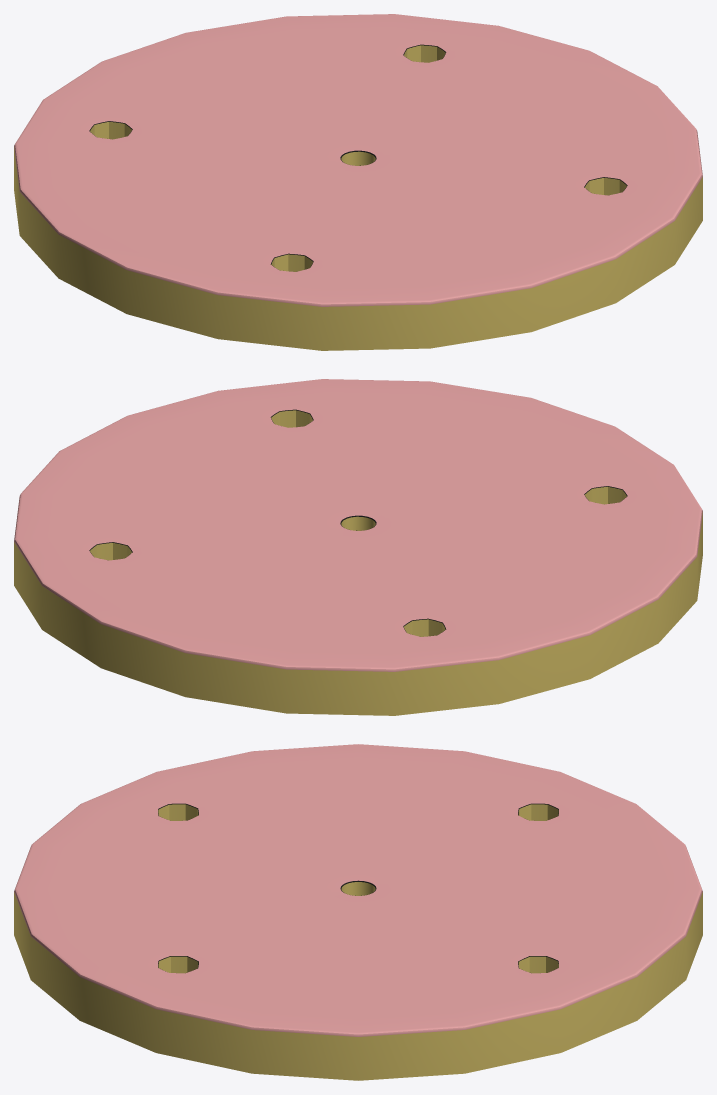
Rendered from stage.fbx.
3 views of the same model, one above another, from view 1: azimuth 30°, elevation 25°; view 2: azimuth 150°, elevation 25°; view 3: azimuth 270°, elevation 25° (orthographic).
Parts seen in each view (by area): view 1: pCylinder14; view 2: pCylinder14; view 3: pCylinder14.
Boxes of the visible parts, x1=… form: pCylinder14: x1=14, y1=14, x2=702, y2=350; pCylinder14: x1=14, y1=379, x2=702, y2=715; pCylinder14: x1=14, y1=744, x2=702, y2=1080.
Size of the model in its own units: 2000 by 150 by 2000.
